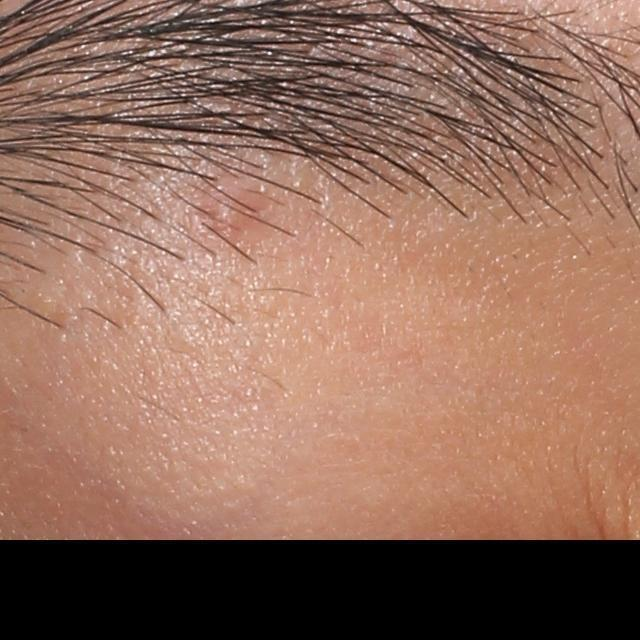papule: (207, 184, 269, 240)
